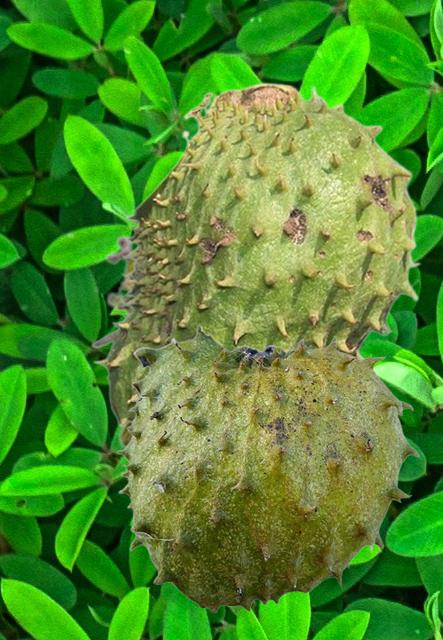guyabano: (90, 82, 420, 429), (116, 323, 419, 612), (105, 232, 135, 512)
